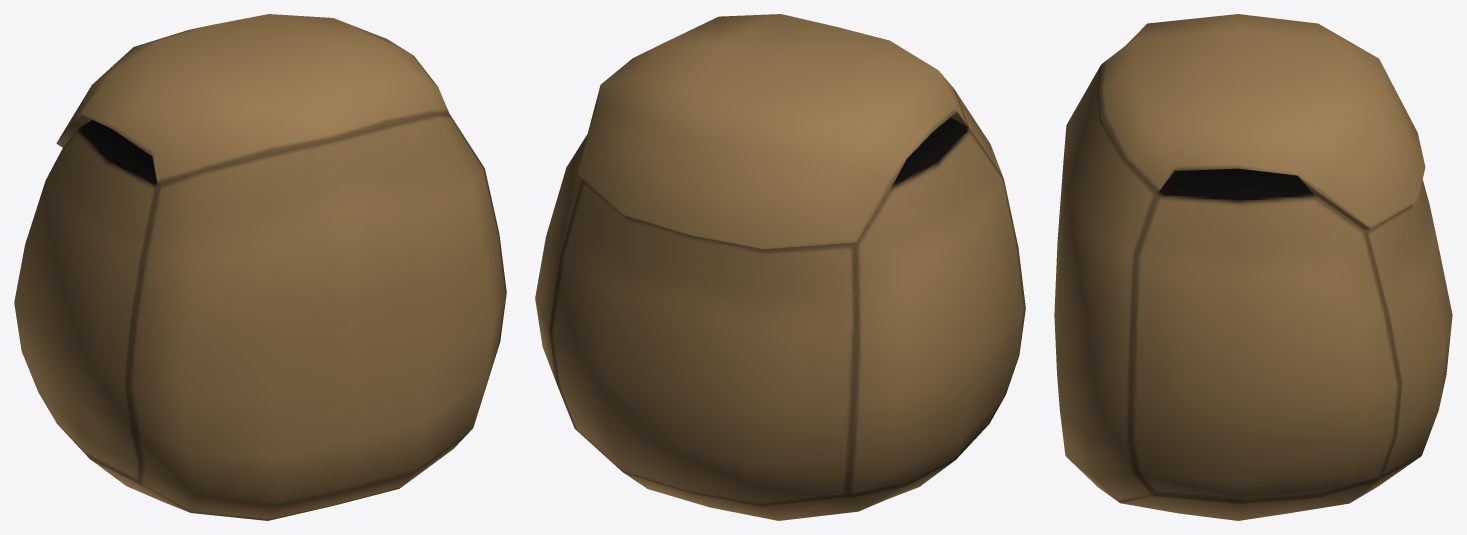
Rendered from bag.fbx.
The picture shows the model from 3 angles, left to right: view 1: azimuth 30°, elevation 25°; view 2: azimuth 150°, elevation 25°; view 3: azimuth 270°, elevation 25°; orthographic projection.
Parts seen in each view (by area): view 1: bag; view 2: bag; view 3: bag.
Part boxes in pixels (x1,y1,x2,y2): bag: (14, 14, 506, 520); bag: (535, 14, 1025, 520); bag: (1054, 14, 1452, 520).
Bounding box in the file's own units: 20.58 × 20.47 × 17.99.
